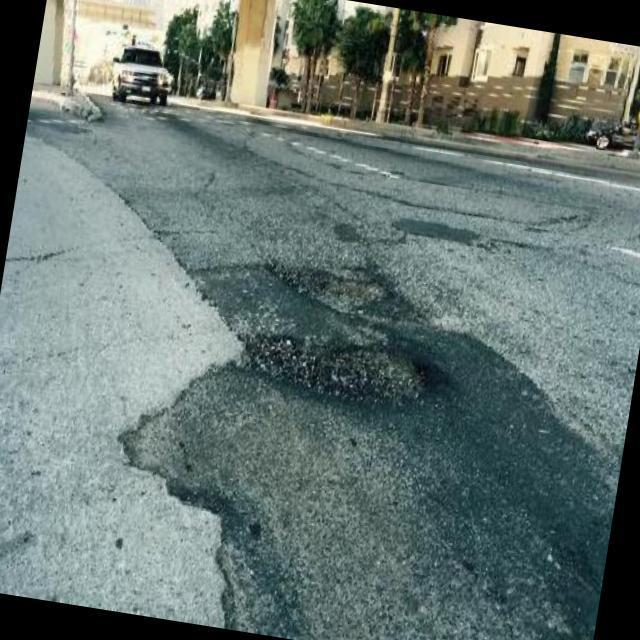Pothole: (237, 335, 426, 407), (262, 264, 425, 327)
